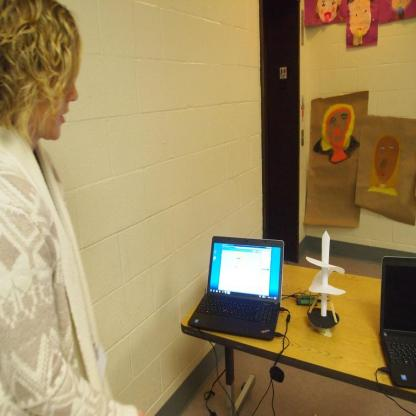board: (188, 235, 284, 340), (378, 256, 416, 387)
